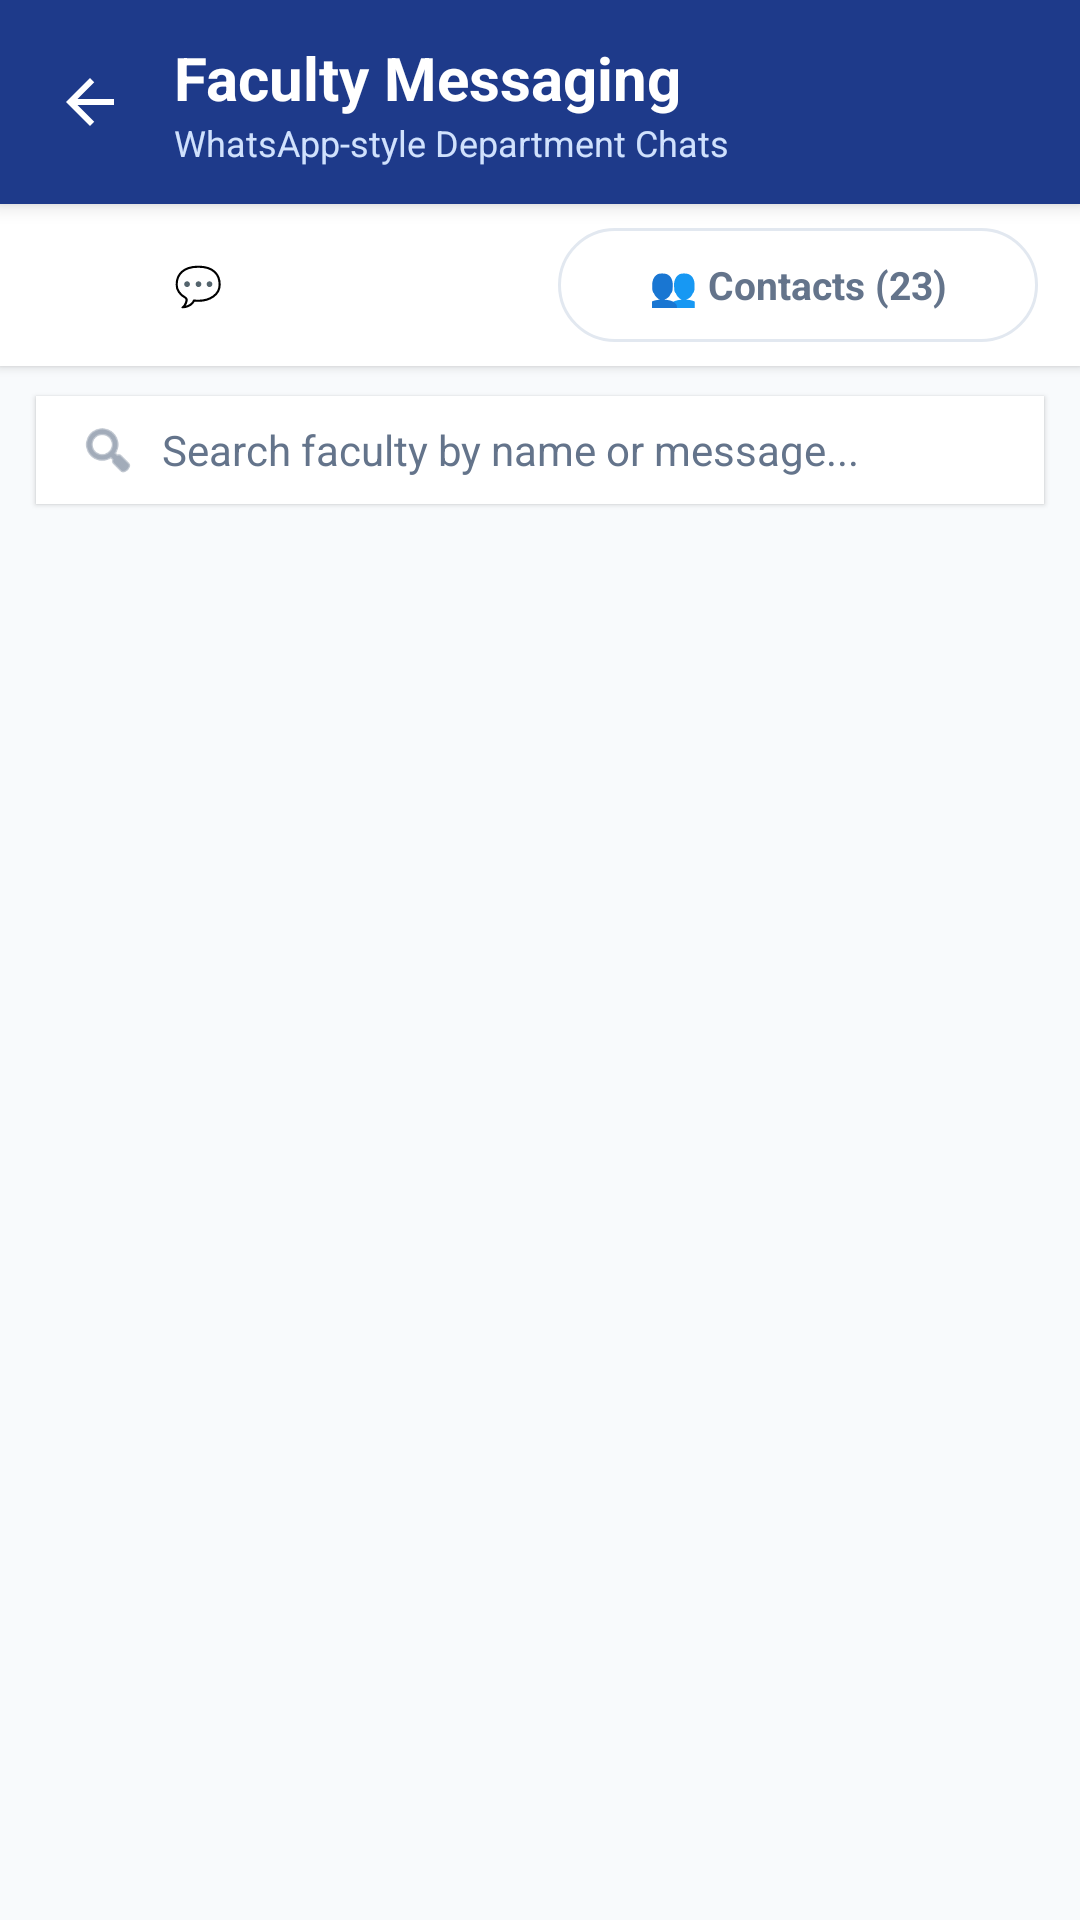

Icon bounding boxes for this 1080 × 1920 phone screenshot, format box(x1, y1, x2, y2):
Back: box(66, 78, 114, 126)
